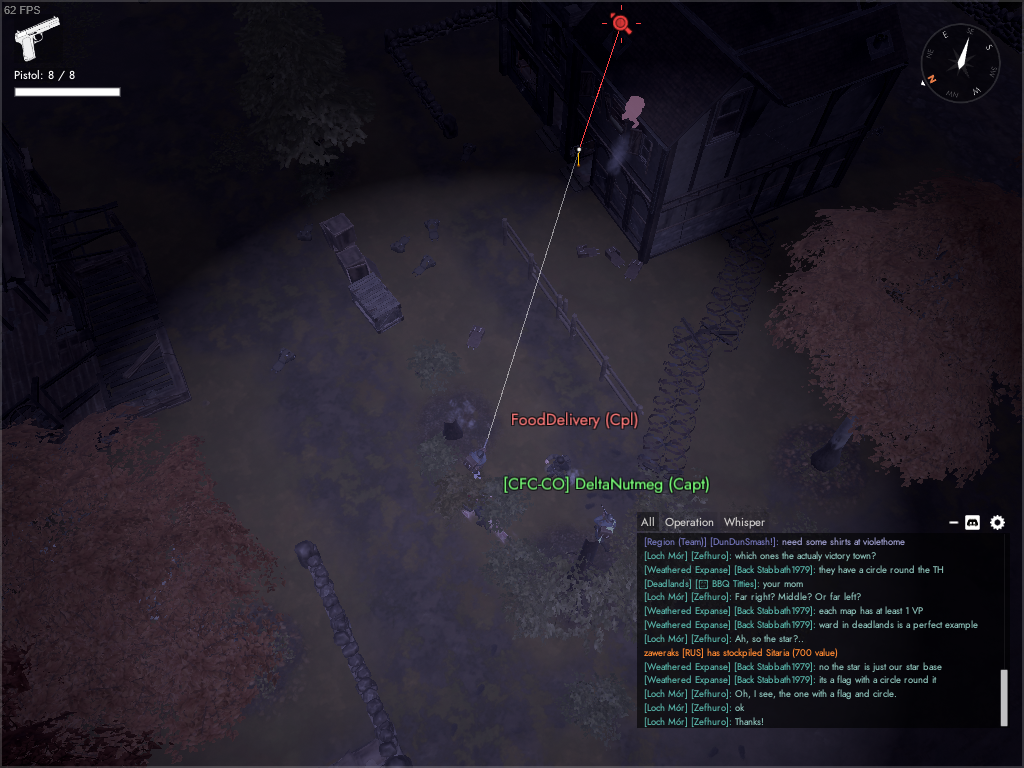backpack: (267, 344, 298, 377), (406, 252, 438, 283), (462, 323, 488, 354), (621, 257, 646, 286), (386, 233, 413, 259), (601, 243, 627, 269), (423, 217, 444, 246), (575, 241, 602, 261), (294, 222, 316, 245), (459, 139, 479, 161)
colonial: (618, 91, 647, 130), (543, 452, 572, 490)
player: (590, 502, 619, 554), (458, 444, 493, 481)
wire: (634, 315, 725, 494), (694, 205, 786, 353)
